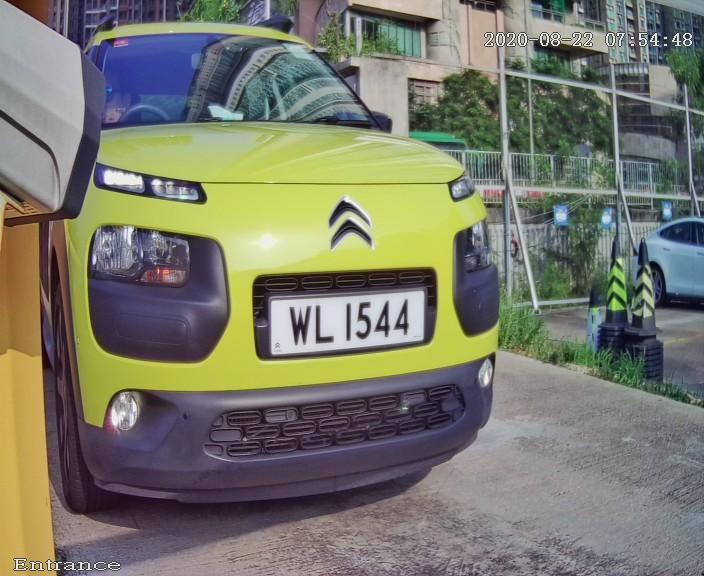Car: (16, 13, 544, 520)
License Plate: (237, 277, 459, 369)
